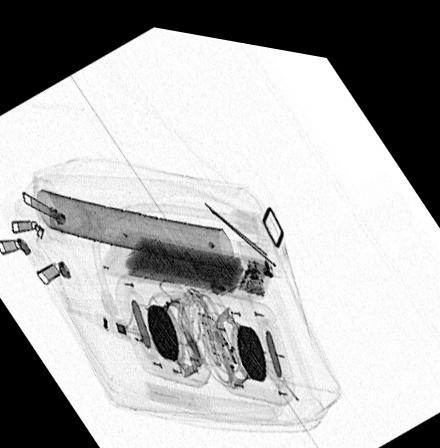Powerbank: (99, 221, 275, 290)
